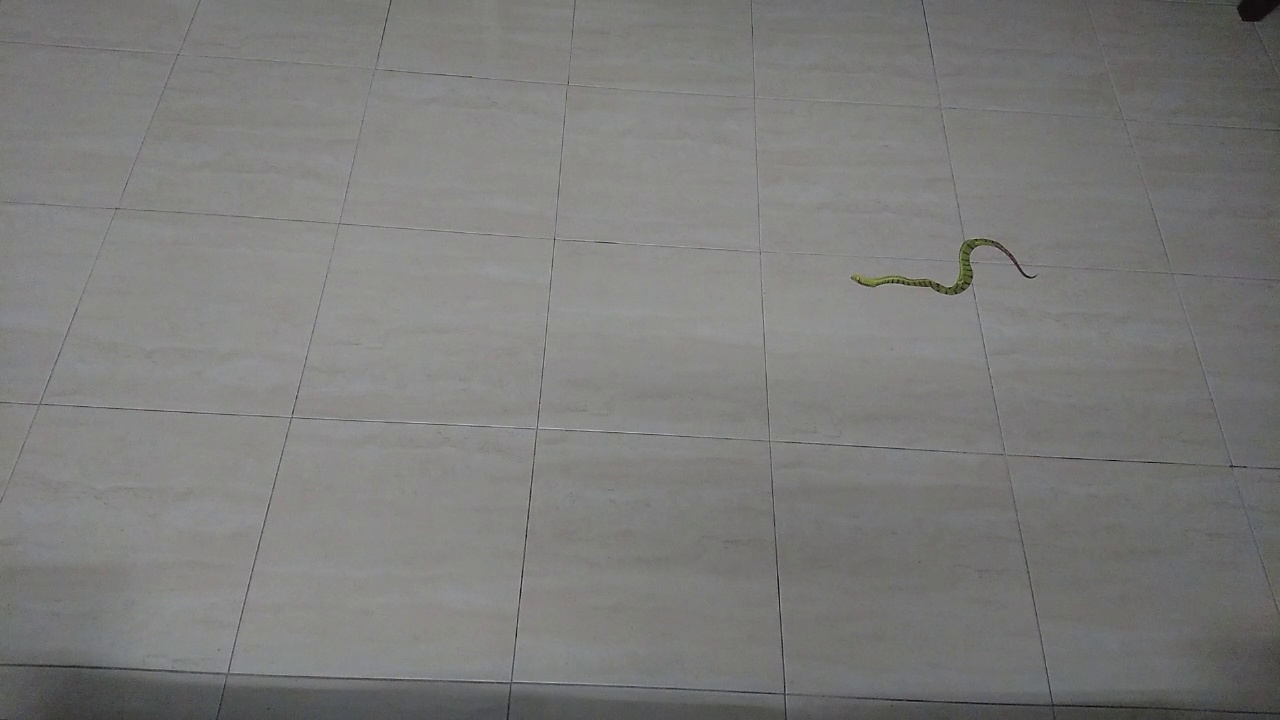snake: (842, 223, 1052, 309)
